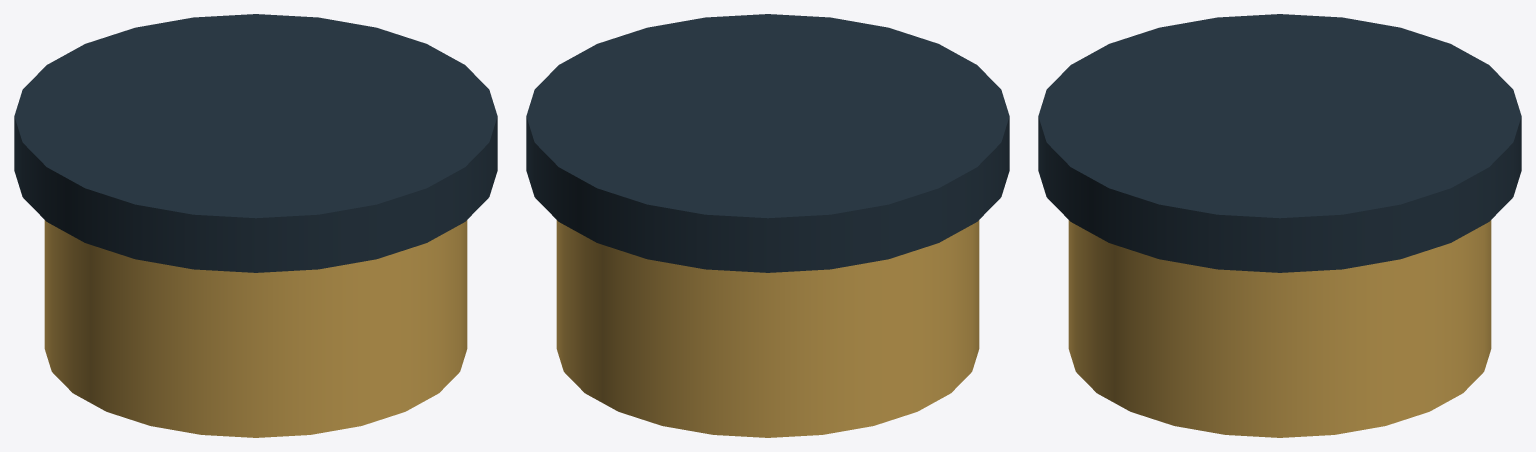
Rendered from paper.glb.
3 renders of one model, left to right at view 1: azimuth 30°, elevation 25°; view 2: azimuth 150°, elevation 25°; view 3: azimuth 270°, elevation 25°, orthographic.
Visible parts, largest first — view 1: DoseLid, MeteredAdhesive; view 2: DoseLid, MeteredAdhesive; view 3: DoseLid, MeteredAdhesive.
Boxes of the visible parts, left/top/right/bottom form: DoseLid: left=14, top=14, right=497, bottom=272; MeteredAdhesive: left=44, top=220, right=467, bottom=437; DoseLid: left=526, top=14, right=1009, bottom=272; MeteredAdhesive: left=556, top=220, right=979, bottom=437; DoseLid: left=1038, top=14, right=1521, bottom=272; MeteredAdhesive: left=1068, top=220, right=1491, bottom=437.
Size of the model in its own units: 0.016 by 0.0085 by 0.016.
